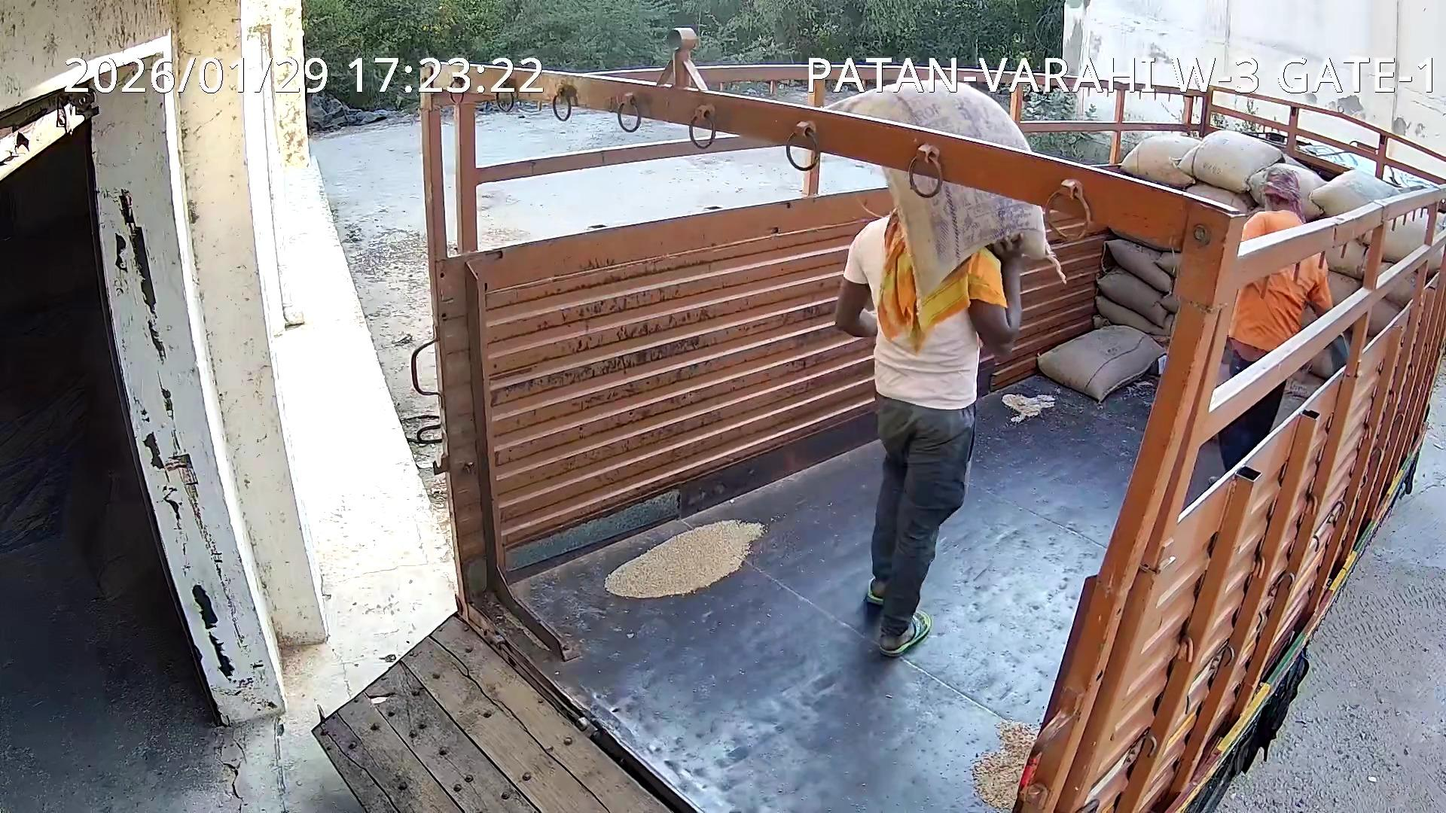Sack: (886, 144, 1051, 303), (827, 84, 1031, 153)
